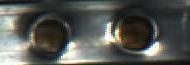joints: (9, 13, 72, 64), (107, 5, 162, 56)
